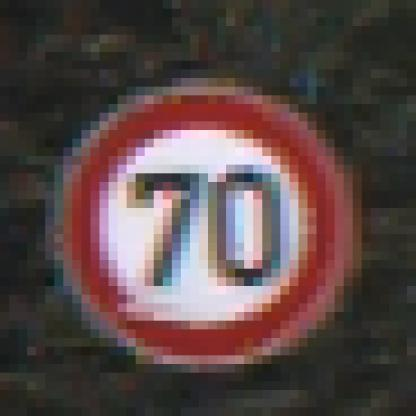Speed Limit 70: (63, 87, 352, 363)
